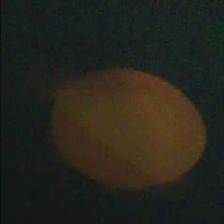fertile: (46, 62, 210, 194)
